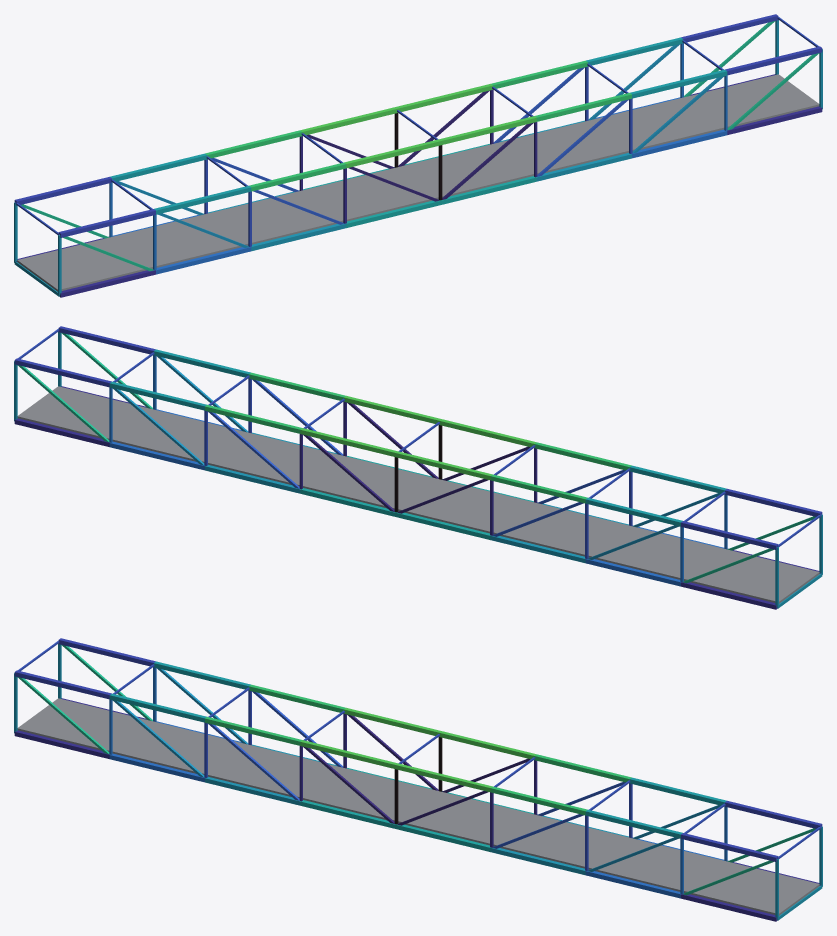
Rendered from 30_2.25_8_HEA240.glb.
3 renders of one model, top to bottom at view 1: azimuth 30°, elevation 25°; view 2: azimuth 150°, elevation 25°; view 3: azimuth 330°, elevation 25°, orthographic.
Bounding box in the file's own units: 30.09 × 2.41 × 3.16.
